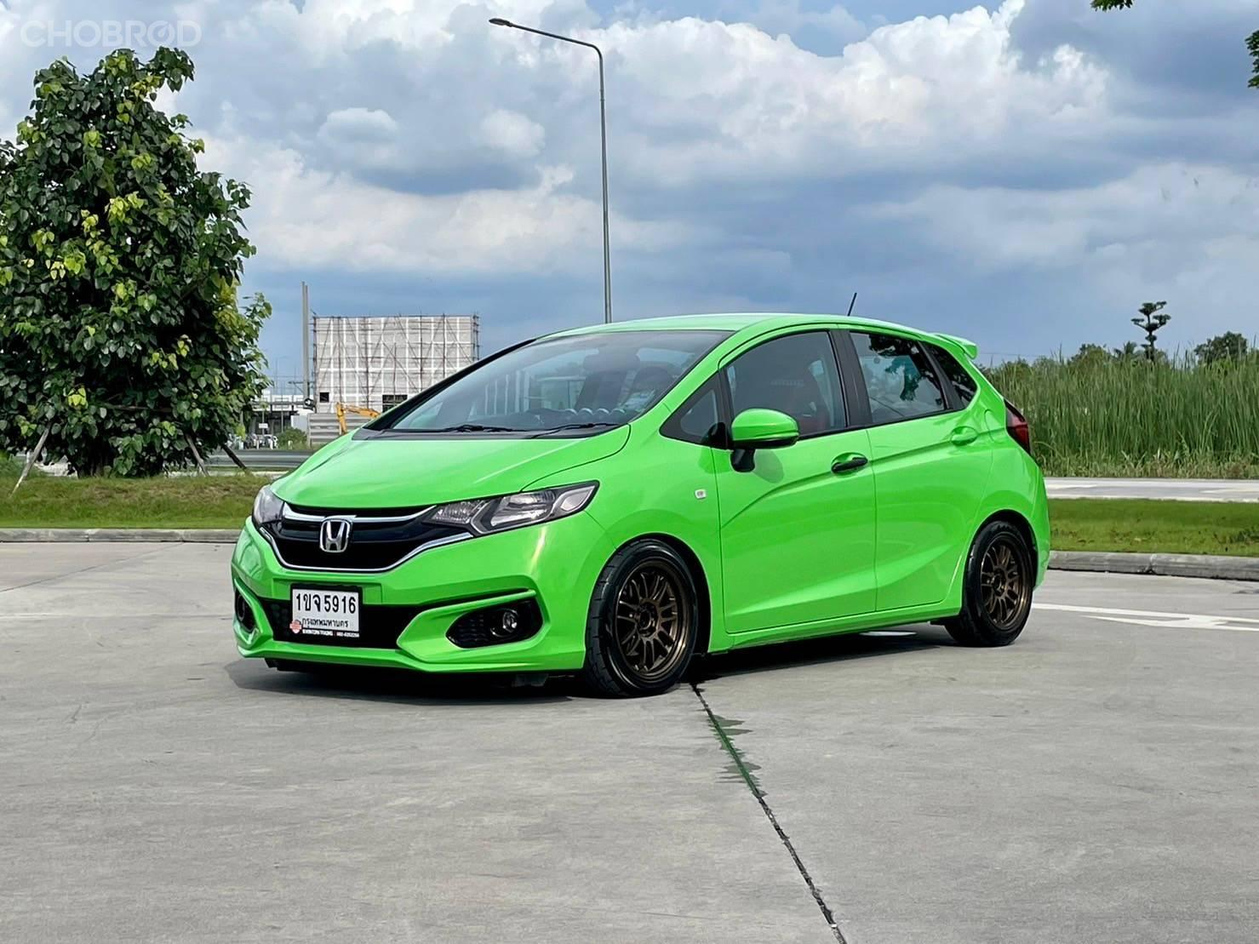license-plate: (287, 579, 373, 643)
